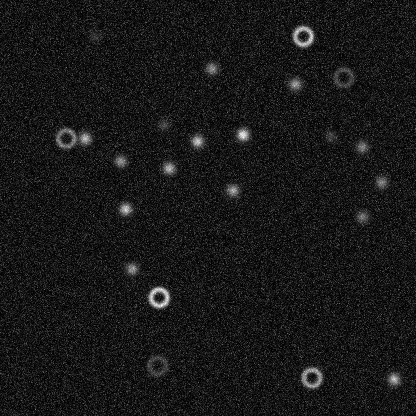Ring: (145, 353, 169, 377), (299, 365, 323, 389), (331, 65, 355, 89), (290, 24, 314, 48), (146, 285, 170, 309), (53, 126, 77, 150)
Spot: (354, 208, 370, 224), (203, 60, 219, 76), (117, 200, 133, 216), (322, 128, 338, 144), (86, 27, 102, 43), (189, 133, 205, 149), (354, 138, 370, 154), (373, 174, 389, 190), (286, 75, 302, 91), (123, 260, 139, 276), (385, 370, 401, 386), (224, 182, 240, 198), (112, 152, 128, 168), (76, 130, 92, 146), (234, 126, 250, 142), (155, 116, 171, 132), (160, 160, 176, 176)
